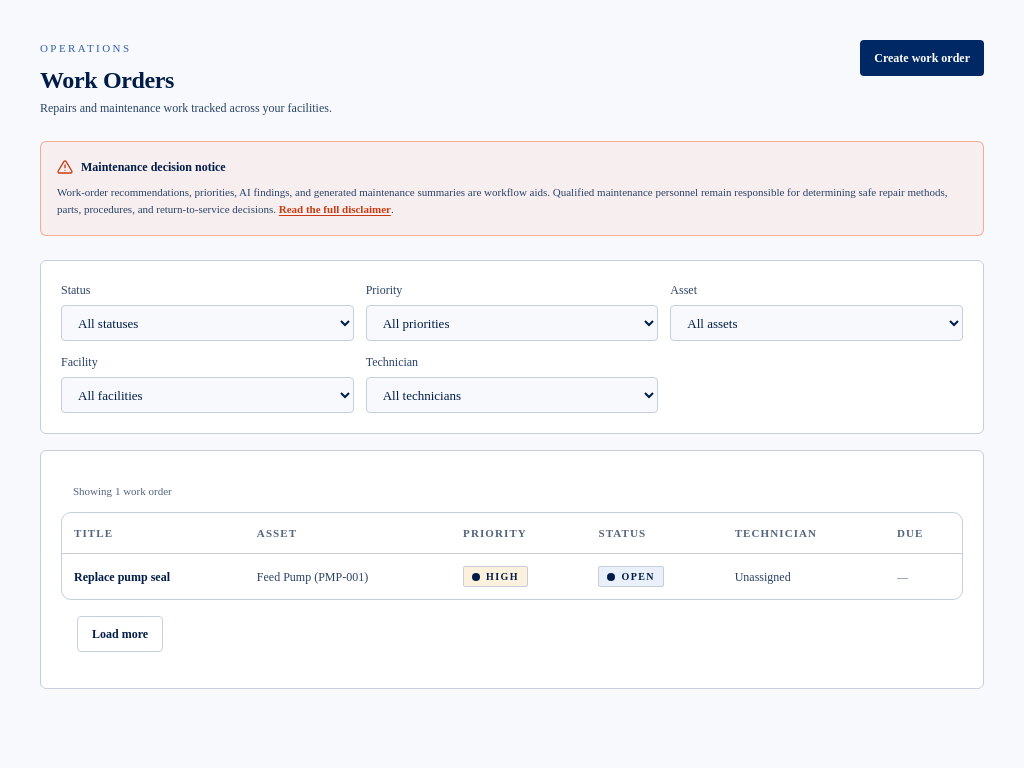
Test: work orders page › loads more work orders via cursor pagination and appends without duplicating
This screenshot has width=1024, height=768.
Expected: the text "Replace pump seal" is shown, [62,554,245,599]
Click the button "Load more".
click(120, 634)  # box [77,616,163,652]
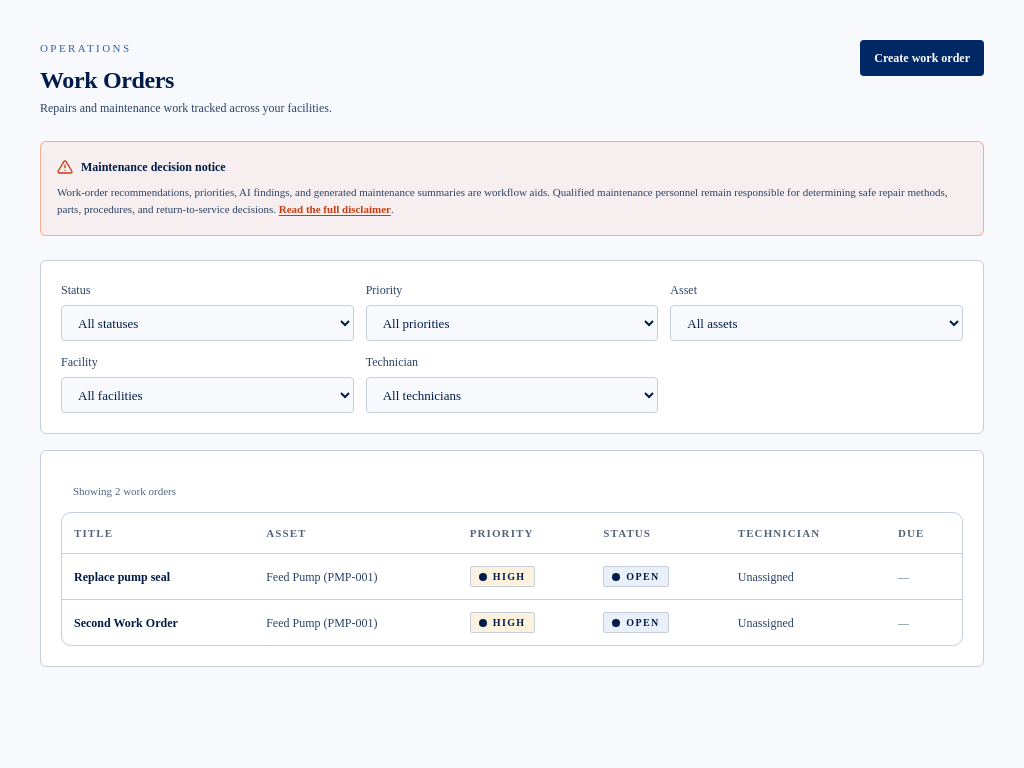
Result: the text "Second Work Order" is shown at [62,600,254,645]
Result: the button "Load more" is gone
